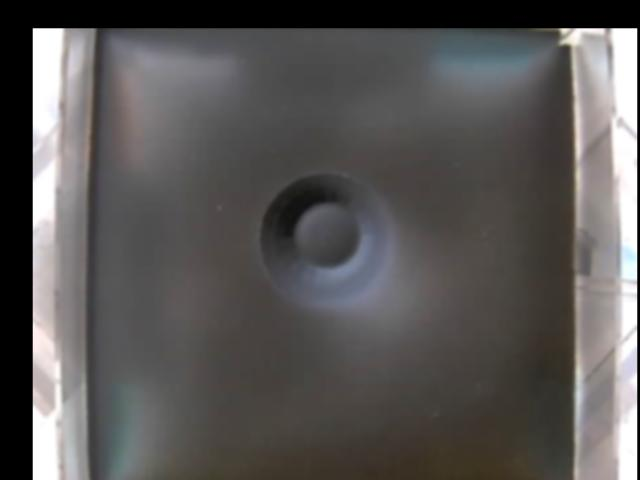Cup: (260, 172, 389, 302)
